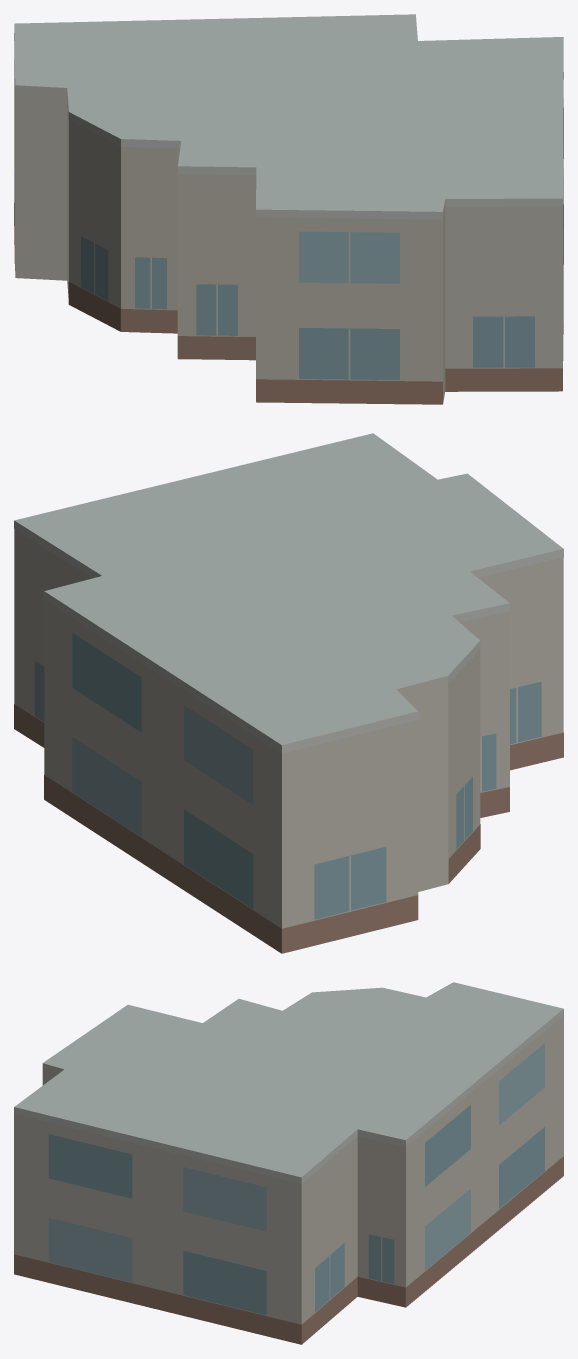
Rendered from survey-upis-32857237.glb.
3 renders of one model, top to bottom at view 1: azimuth 30°, elevation 25°; view 2: azimuth 150°, elevation 25°; view 3: azimuth 270°, elevation 25°, orthographic. The views are drawn at different scales.
Parts seen in each view (by area): view 1: survey-upis-32857237.tmp; view 2: survey-upis-32857237.tmp; view 3: survey-upis-32857237.tmp.
Boxes of the visible parts, x1,y1,x2,y2 form: survey-upis-32857237.tmp: (14,14,563,404); survey-upis-32857237.tmp: (14,433,563,953); survey-upis-32857237.tmp: (14,982,563,1344).
Bounding box in the file's own units: 15.28 × 6.1 × 18.17.
